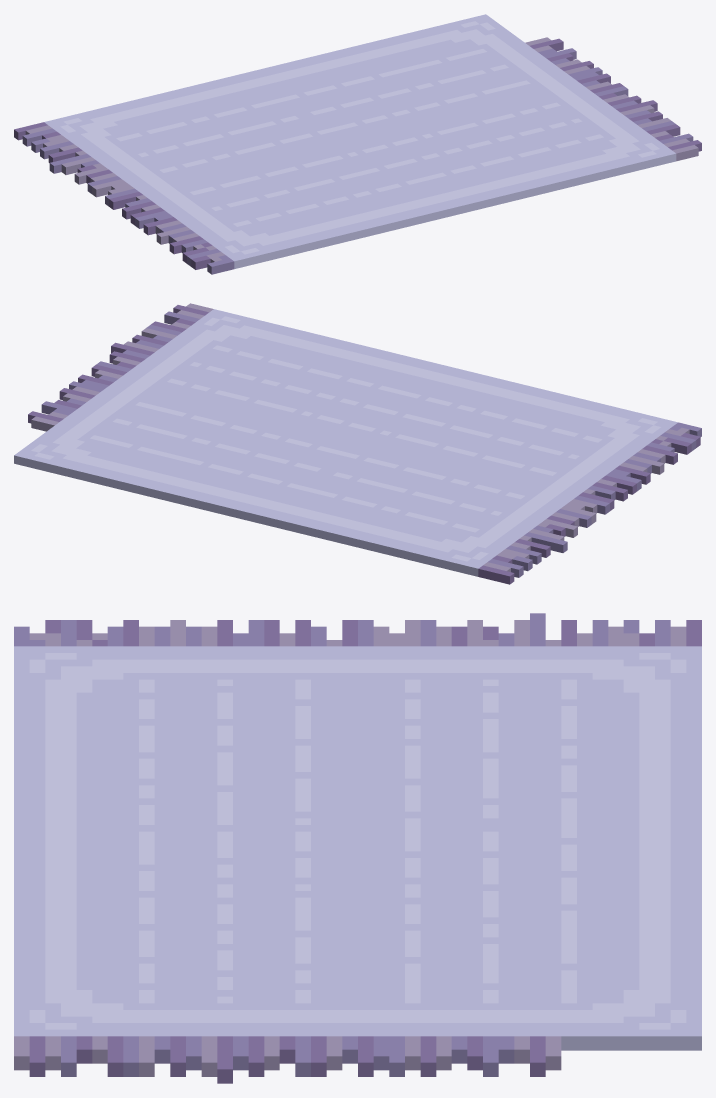
Rendered from tassel_rug_2.obj.
3 renders of one model, top to bottom at view 1: azimuth 30°, elevation 25°; view 2: azimuth 150°, elevation 25°; view 3: azimuth 270°, elevation 25°, orthographic. The views are drawn at different scales.
Bounding box in the file's own units: 6.9 × 0.1 × 4.4.
1 material, 1 textured.
